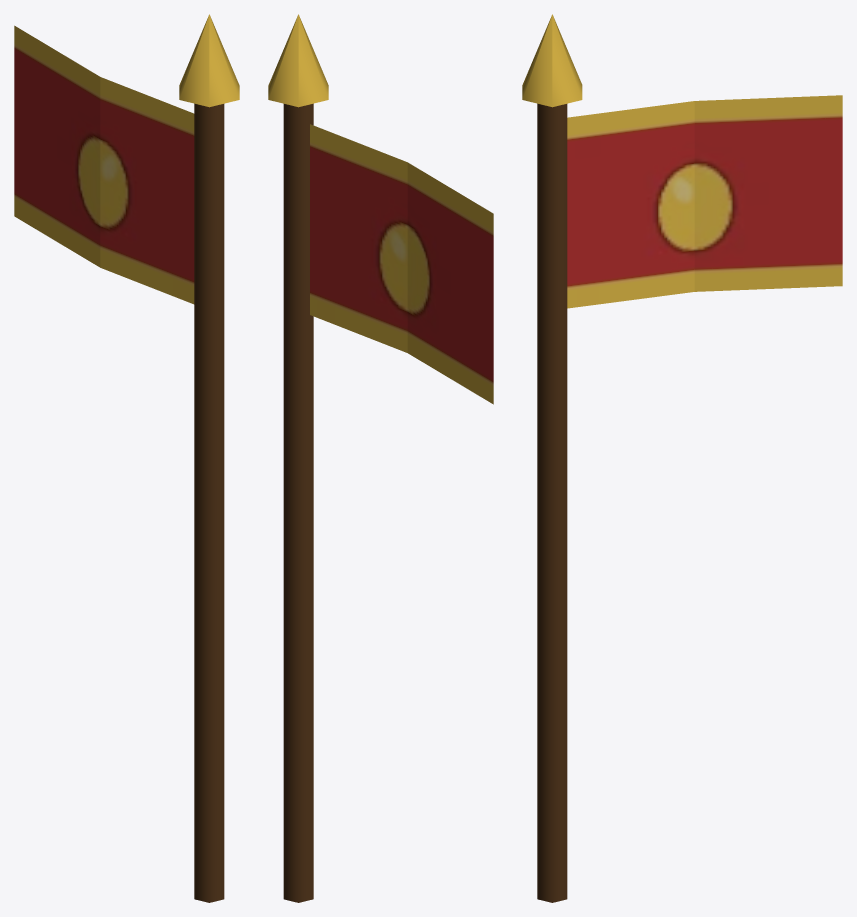
Rendered from back_banner.glb.
3 renders of one model, left to right at view 1: azimuth 30°, elevation 25°; view 2: azimuth 210°, elevation 25°; view 3: azimuth 270°, elevation 25°, orthographic.
Visible parts, largest first — view 1: Back; view 2: Back; view 3: Back.
Boxes of the visible parts, x1,y1,x2,y2 form: Back: (14,14,239,902); Back: (268,14,493,902); Back: (522,14,842,902).
Size of the model in its own units: 0.1117 by 1.18 by 0.3876.
2 materials, 1 textured.
